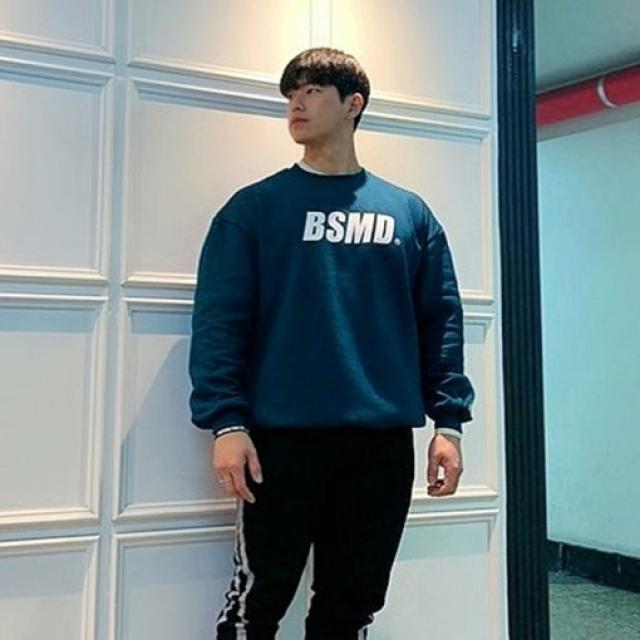sweater: (185, 159, 479, 441)
trousers: (209, 423, 415, 640)
